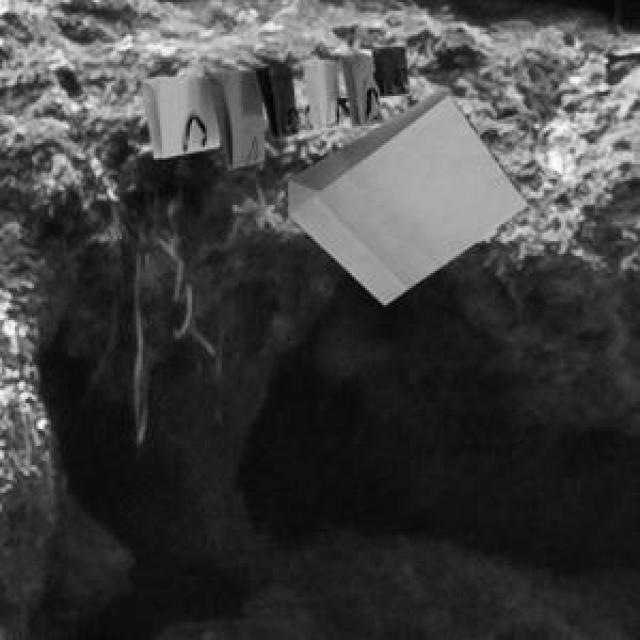paper: (284, 83, 523, 301), (137, 43, 403, 164)
